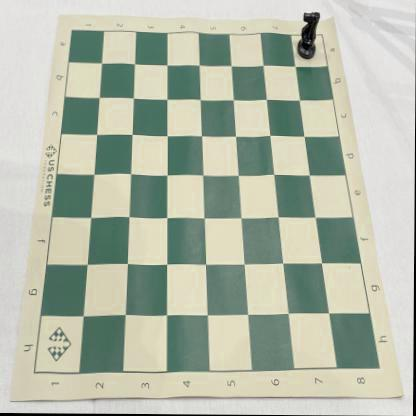black-knight: (297, 11, 320, 61)
